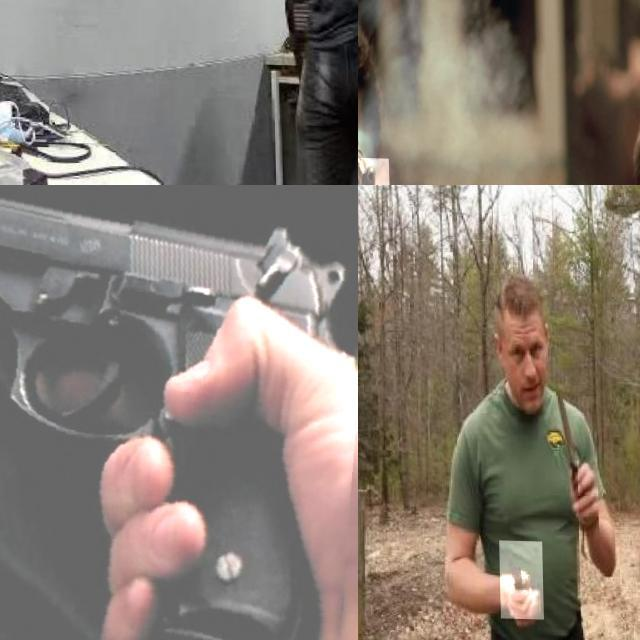-: (548, 356, 599, 514), (498, 539, 542, 618)
gun-knife-thesis - v11 Yolov5 augmented: (0, 185, 358, 640)
